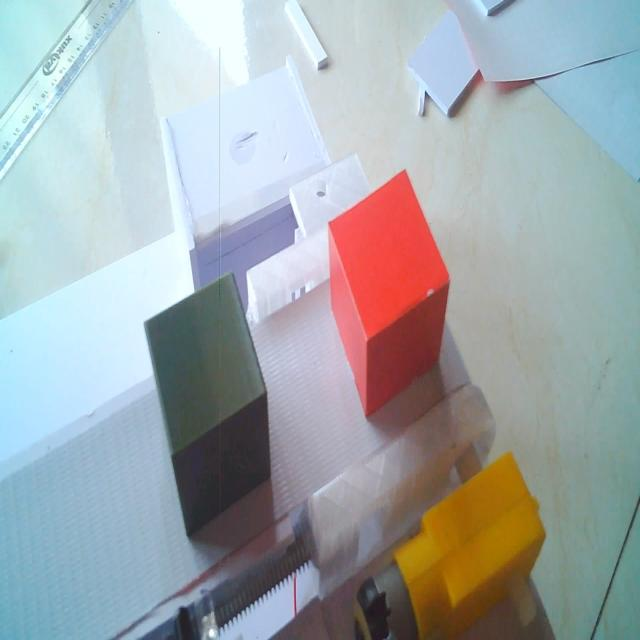green: (142, 266, 278, 538)
red: (323, 158, 453, 423)
